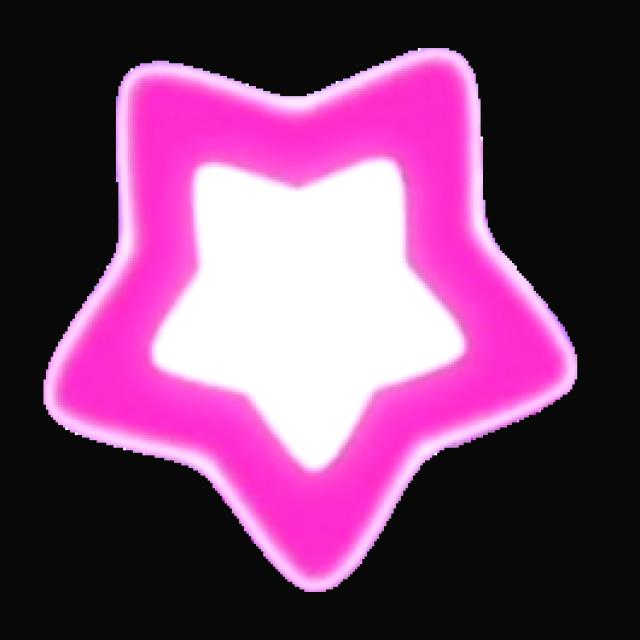Sustained - Star: (38, 42, 580, 594)
